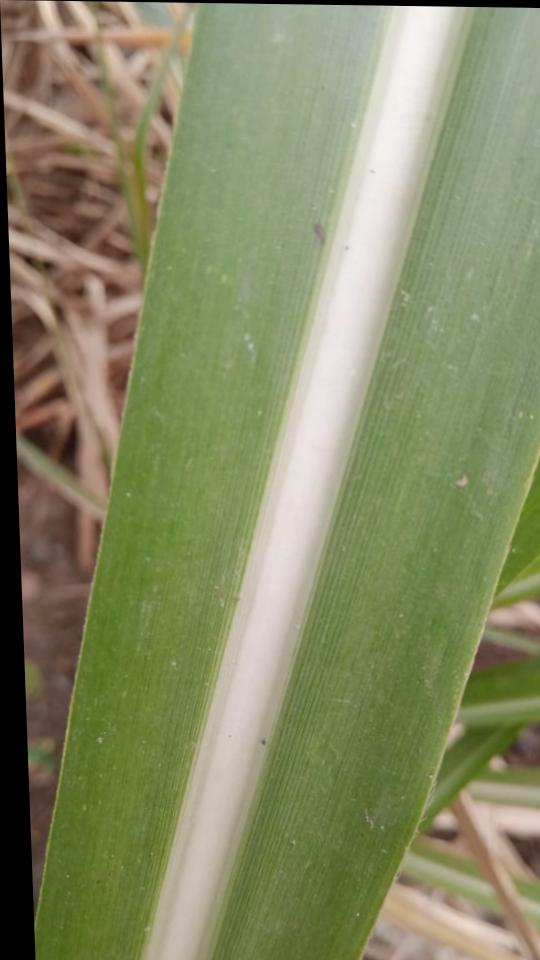Healthy: (35, 3, 540, 960)
